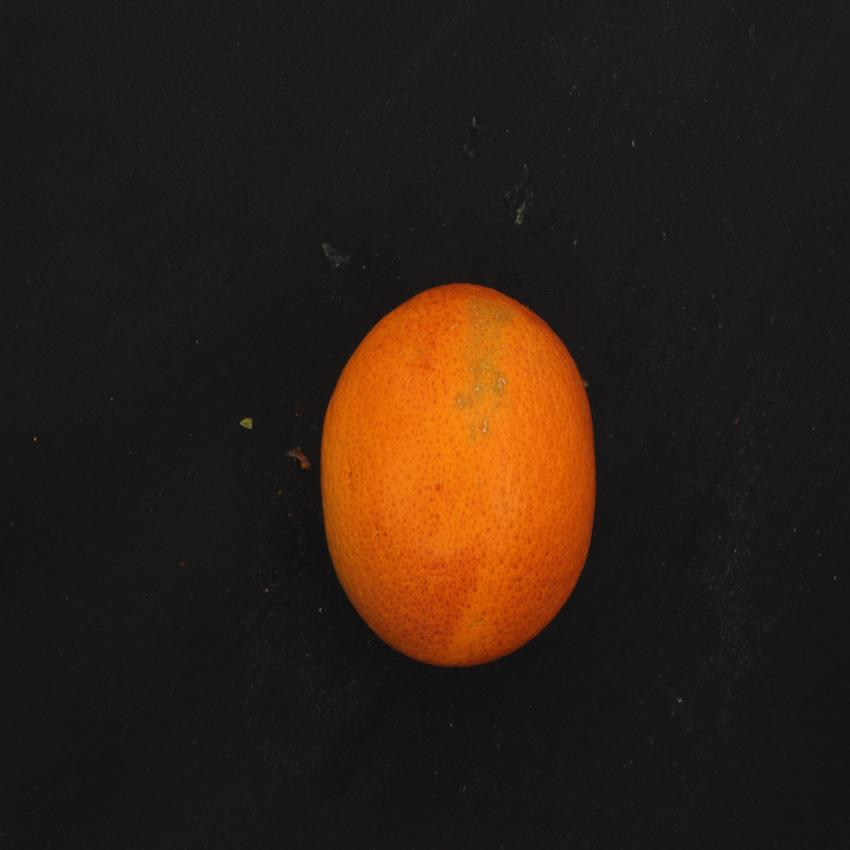Buen estado: (314, 270, 607, 682)
